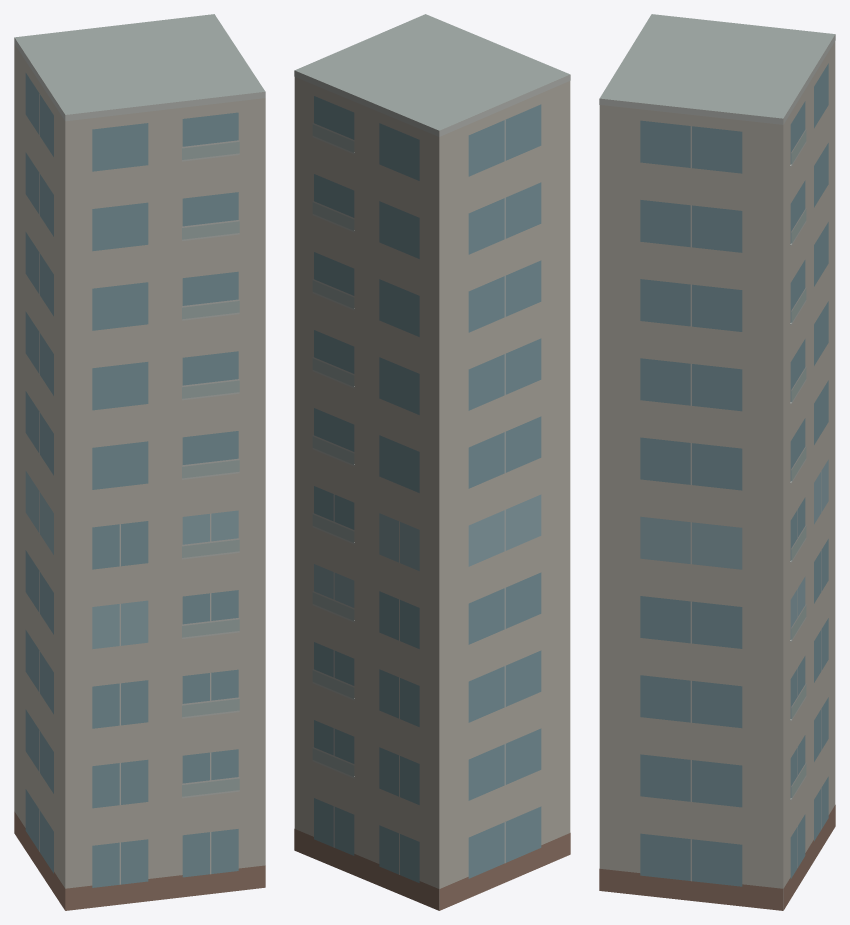
Rendered from survey-upis-32879544.glb.
3 views of the same model, side by side, from view 1: azimuth 30°, elevation 25°; view 2: azimuth 150°, elevation 25°; view 3: azimuth 270°, elevation 25° (orthographic). The views are drawn at different scales.
Parts seen in each view (by area): view 1: survey-upis-32879544.tmp; view 2: survey-upis-32879544.tmp; view 3: survey-upis-32879544.tmp.
Part boxes in pixels (x1,y1,x2,y2): survey-upis-32879544.tmp: [14, 14, 265, 910]; survey-upis-32879544.tmp: [294, 14, 570, 910]; survey-upis-32879544.tmp: [599, 14, 835, 910].
Size of the model in its own units: 8.65 by 30.5 by 8.24.
